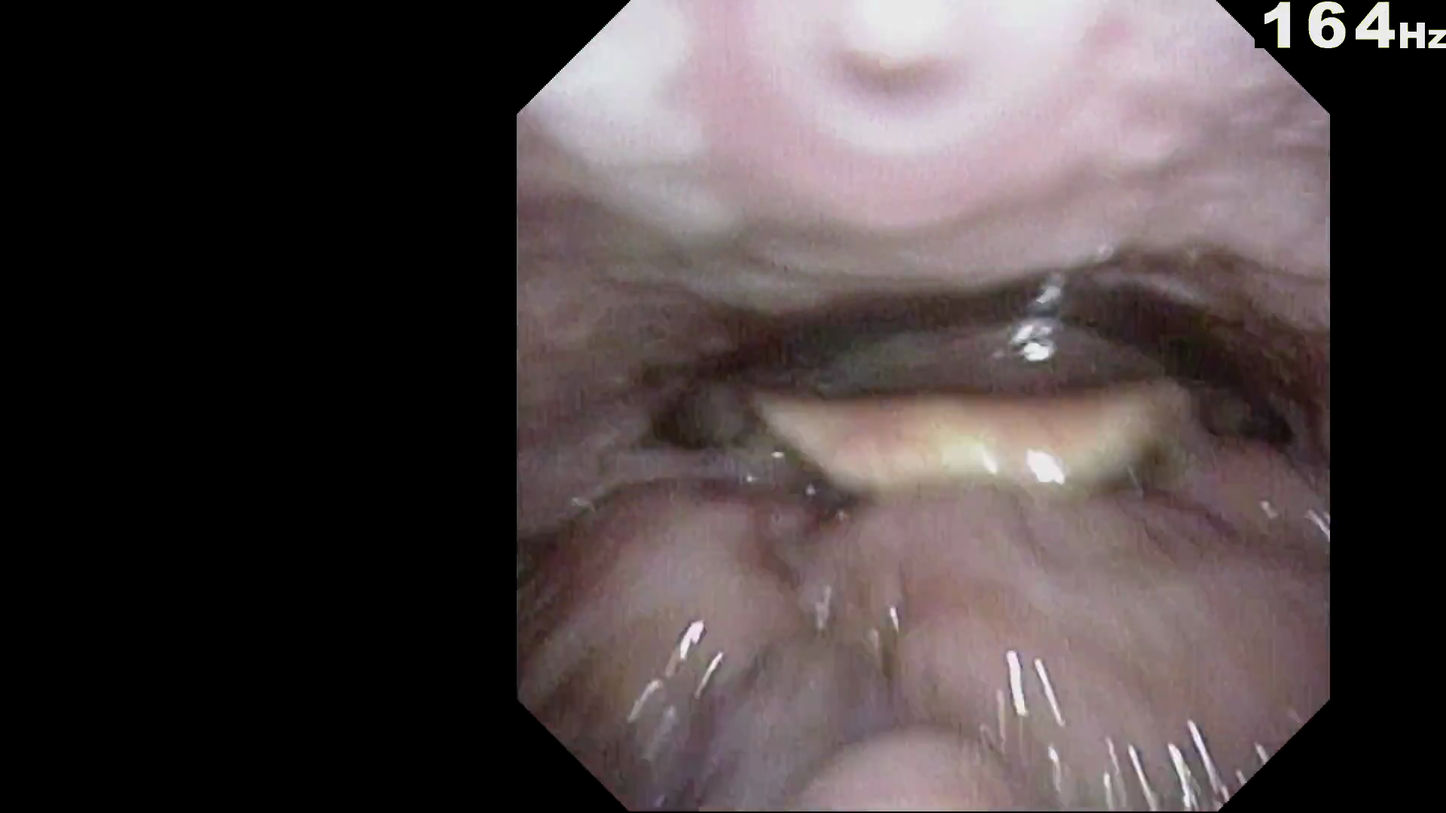epiglottis: (684, 470, 1208, 643)
trachea: (933, 445, 1051, 563)
